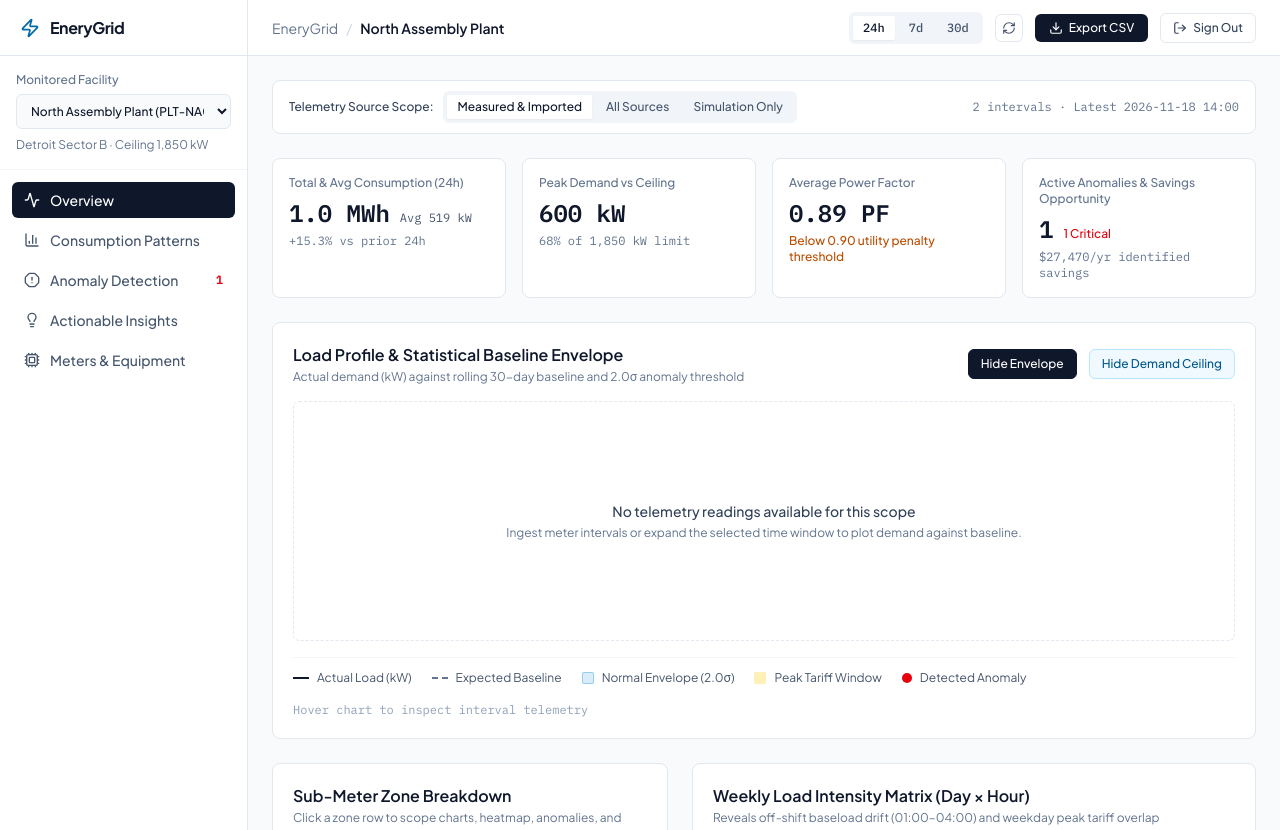
Test: EneryGrid backend-integrated dashboard › enforces required resolution notes for anomalies and executes resolve workflow
Step 1. Click the button "Anomaly Detection 1" → coordinates (124, 280), box [12,262,235,298]
(page scrolled)
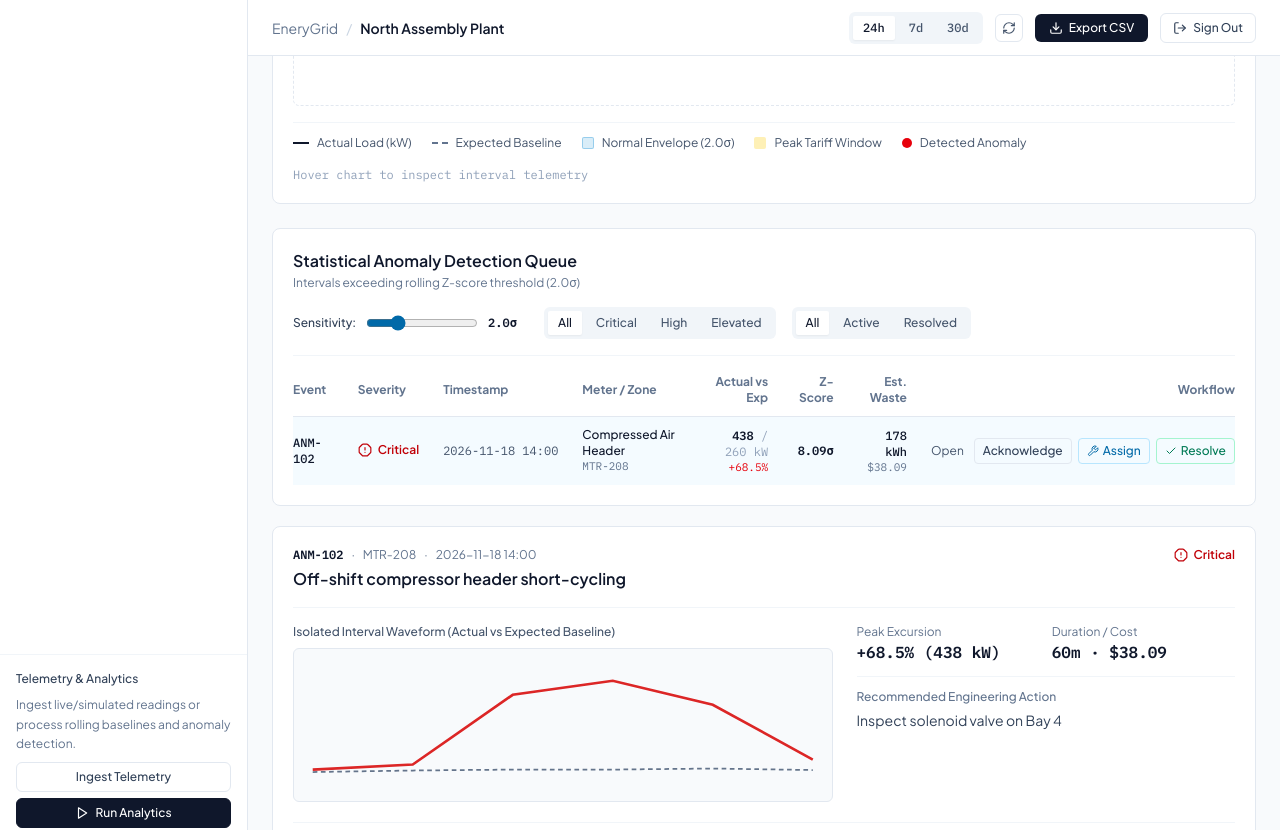
Step 2. Click the button "Resolve" → coordinates (1195, 451), box [1156,438,1235,464]
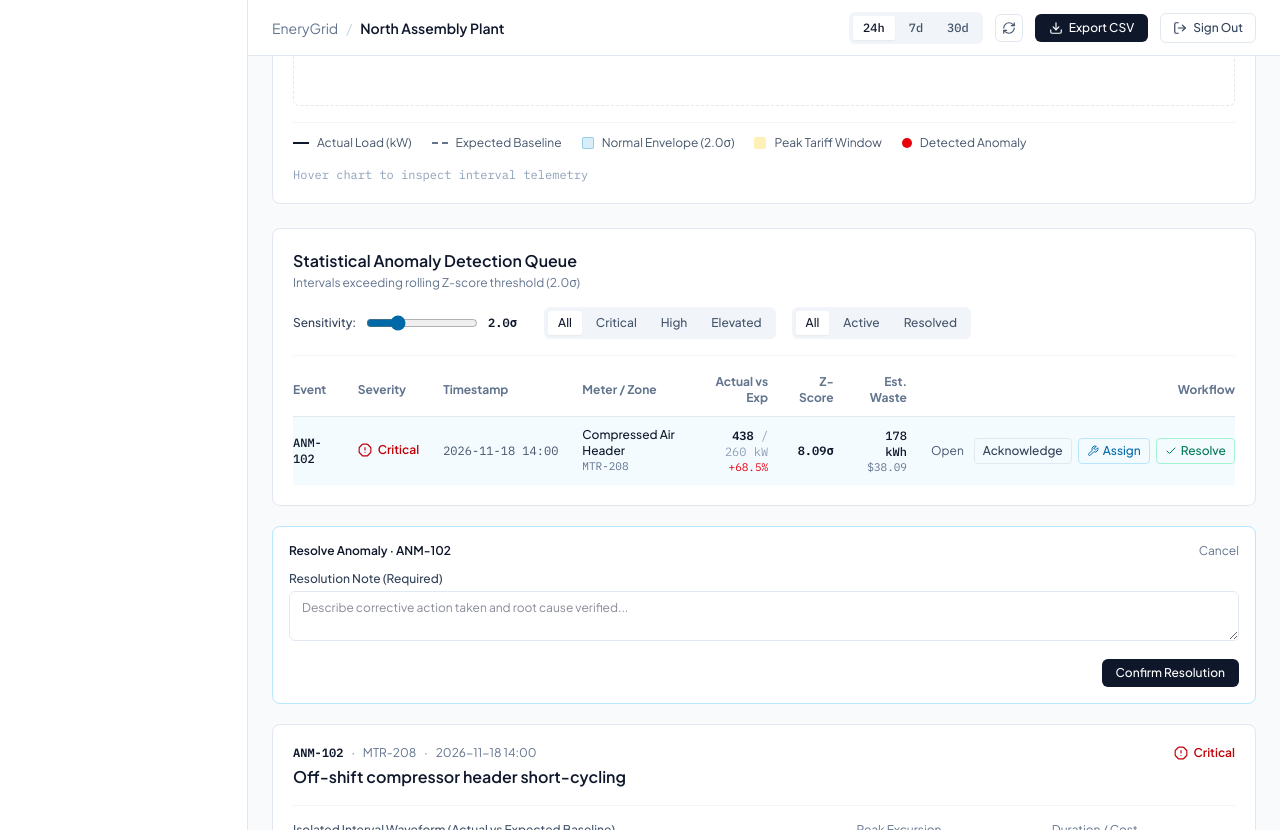
// Blank submission blocked by client validation
Step 3. Click the button "Confirm Resolution" → coordinates (1170, 673), box [1102,659,1239,687]
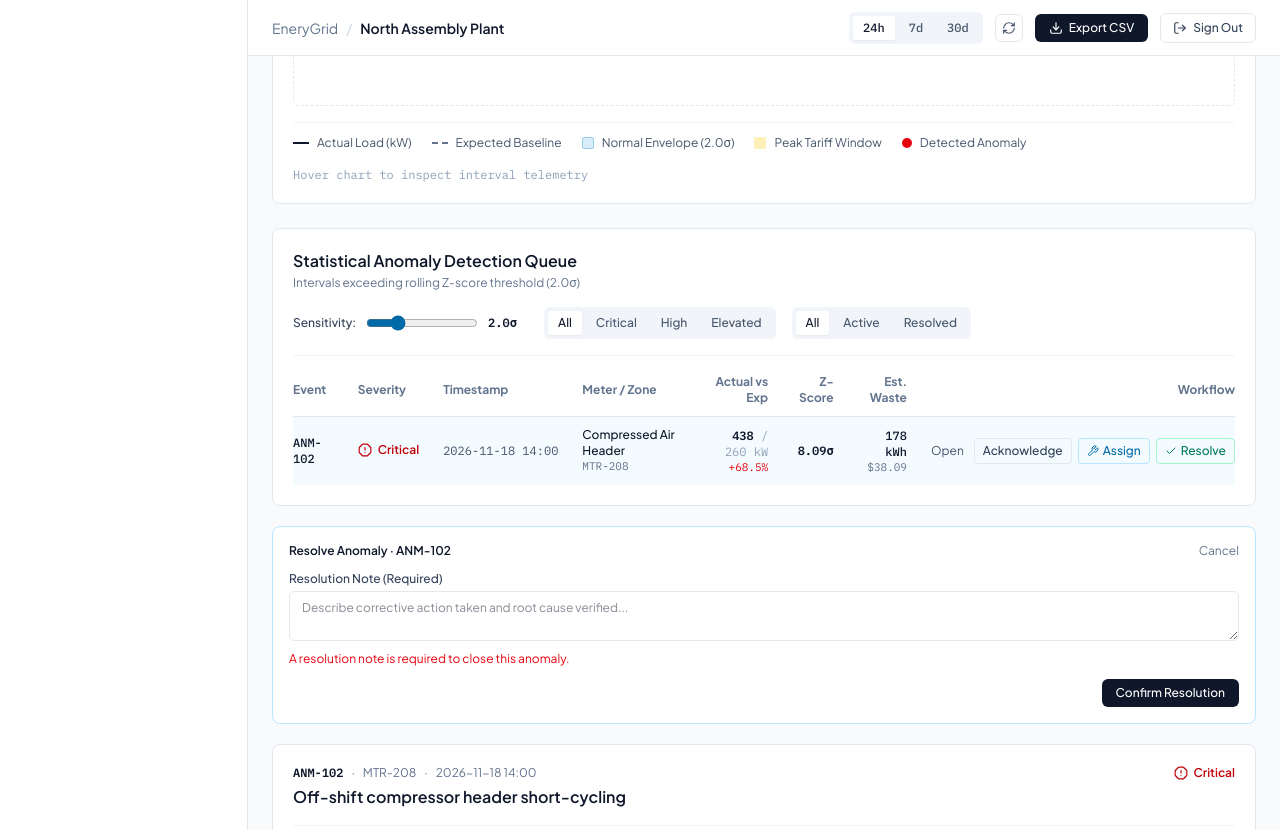
Result: the text "A resolution note is required to close this anomaly." is shown at [289,651,570,666]
Step 4. Type "Replaced leaking Bay 4 solenoid valve." into the text box labelled "Resolution Note (Required)" → coordinates (764, 616), box [289,591,1239,641]
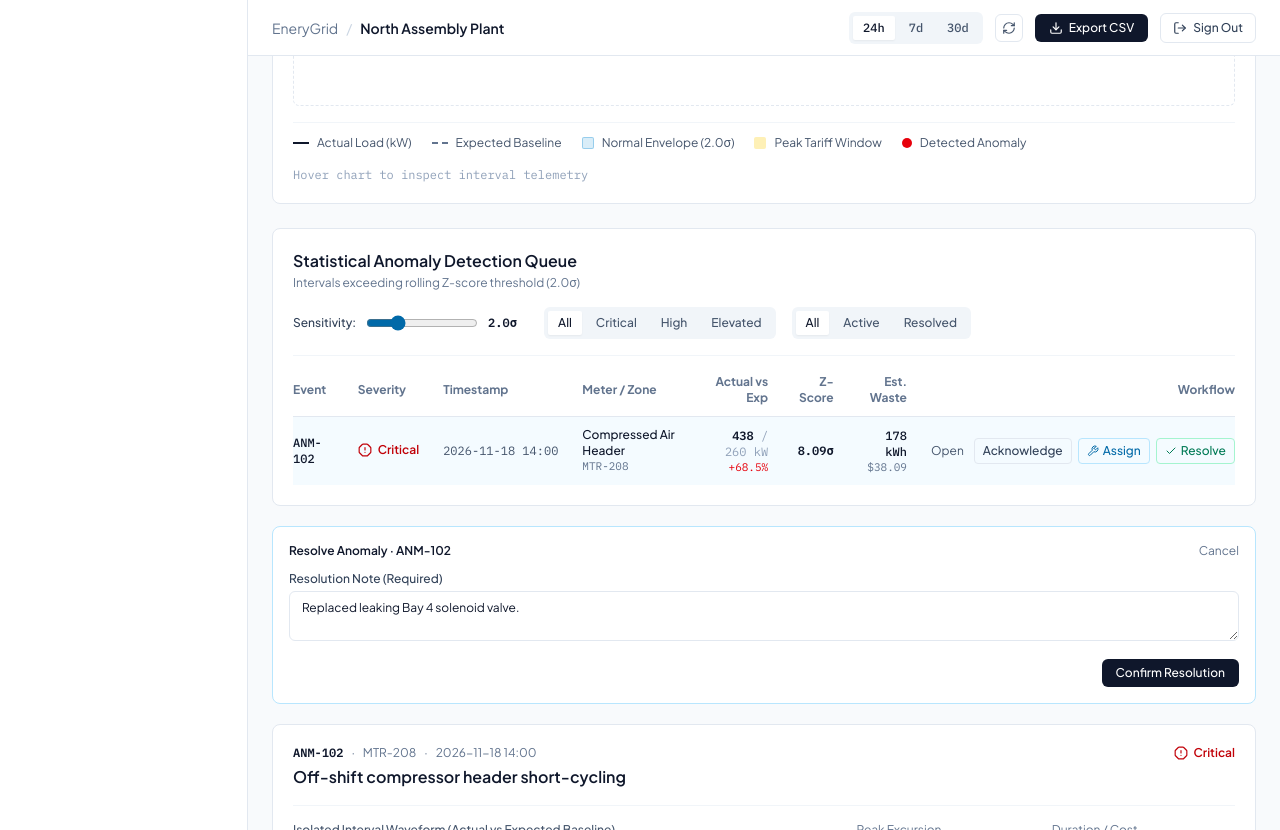
Step 5. Click the button "Confirm Resolution" → coordinates (1170, 673), box [1102,659,1239,687]
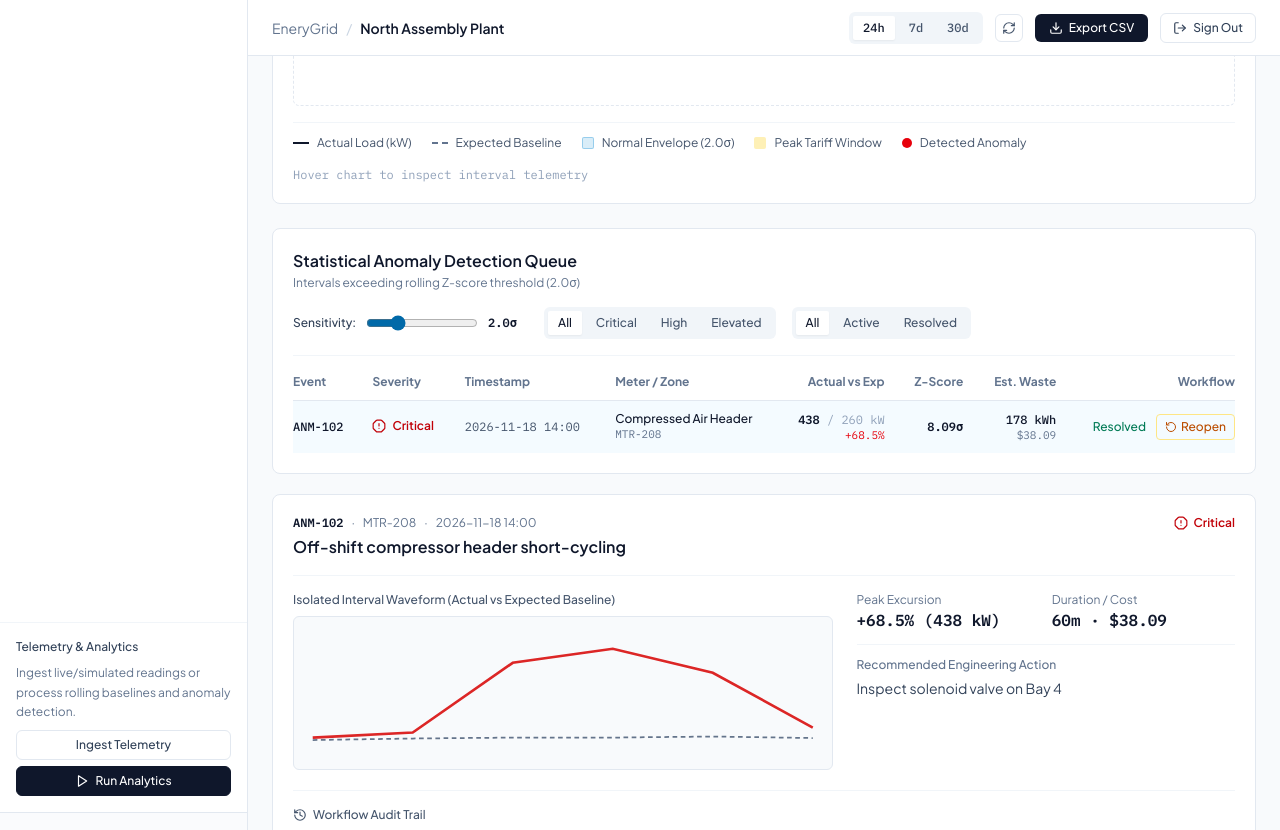
Result: the button "Reopen" is shown at [1156,414,1235,440]
